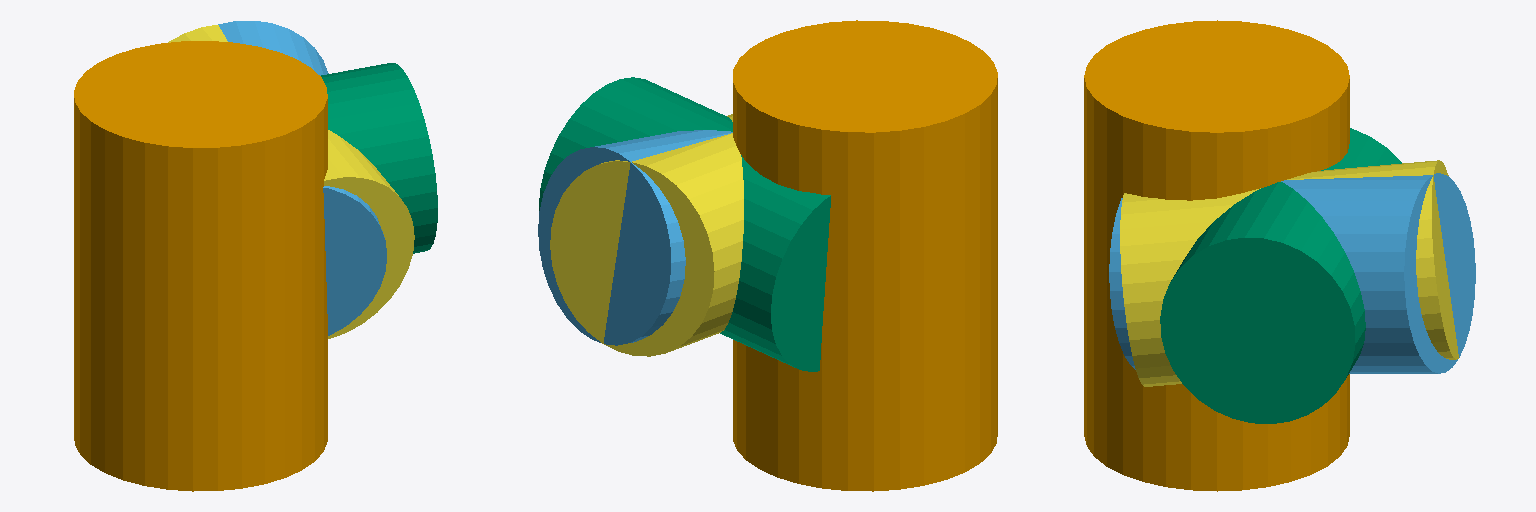
URDF robot description (pepe):
<?xml version="1.0"?><robot name="pepe">
	<link name="0">
		<visual>
			<geometry>
				<cylinder length="2.9780468539074367" radius="0.9999"/>
			</geometry>
		</visual>
		<collision>
			<geometry>
				<cylinder length="2.9780468539074367" radius="0.9999"/>
			</geometry>
		</collision>
		<inertial>
			<mass value="9.353939049816244"/>
			<inertia ixx="0.03" iyy="0.03" izz="0.03" ixy="0" ixz="0" iyx="0"/>
		</inertial>
	</link>
	<link name="11">
		<visual>
			<geometry>
				<cylinder length="2.3768619976775973" radius="0.7544873630837762"/>
			</geometry>
		</visual>
		<collision>
			<geometry>
				<cylinder length="2.3768619976775973" radius="0.7544873630837762"/>
			</geometry>
		</collision>
		<inertial>
			<mass value="4.250673818522219"/>
			<inertia ixx="0.03" iyy="0.03" izz="0.03" ixy="0" ixz="0" iyx="0"/>
		</inertial>
	</link>
	<link name="12">
		<visual>
			<geometry>
				<cylinder length="2.3768619976775973" radius="0.7544873630837762"/>
			</geometry>
		</visual>
		<collision>
			<geometry>
				<cylinder length="2.3768619976775973" radius="0.7544873630837762"/>
			</geometry>
		</collision>
		<inertial>
			<mass value="4.250673818522219"/>
			<inertia ixx="0.03" iyy="0.03" izz="0.03" ixy="0" ixz="0" iyx="0"/>
		</inertial>
	</link>
	<link name="13">
		<visual>
			<geometry>
				<cylinder length="2.3768619976775973" radius="0.7544873630837762"/>
			</geometry>
		</visual>
		<collision>
			<geometry>
				<cylinder length="2.3768619976775973" radius="0.7544873630837762"/>
			</geometry>
		</collision>
		<inertial>
			<mass value="4.250673818522219"/>
			<inertia ixx="0.03" iyy="0.03" izz="0.03" ixy="0" ixz="0" iyx="0"/>
		</inertial>
	</link>
	<joint name="11_to_0" type="revolute">
		<parent link="0"/>
		<child link="11"/>
		<axis xyz="0 0 1"/>
		<limit effort="1" upper="-3.1415" lower="3.1415" velocity="1"/>
		<origin rpy="3.3797362754343734 4.868516813710057 4.137952610057781" xyz="0.9086398339150384 0.567783715922862 0.27685329082958476"/>
	</joint>
	<joint name="12_to_0" type="revolute">
		<parent link="0"/>
		<child link="12"/>
		<axis xyz="0 0 1"/>
		<limit effort="1" upper="-3.1415" lower="3.1415" velocity="1"/>
		<origin rpy="5.06960441315156 4.868516813710057 4.137952610057781" xyz="0.9086398339150384 0.567783715922862 0.27685329082958476"/>
	</joint>
	<joint name="13_to_0" type="revolute">
		<parent link="0"/>
		<child link="13"/>
		<axis xyz="0 0 1"/>
		<limit effort="1" upper="-3.1415" lower="3.1415" velocity="1"/>
		<origin rpy="6.759472550868747 4.868516813710057 4.137952610057781" xyz="0.9086398339150384 0.567783715922862 0.27685329082958476"/>
	</joint>
</robot>

--- Facts derived from the render (not from the file) ---
3 views of the same robot in one strip: view 1: azimuth 30°, elevation 25°; view 2: azimuth 150°, elevation 25°; view 3: azimuth 270°, elevation 25° (orthographic).
Model pepe with 4 links and 3 joints (3 revolute), rooted at 0, posed every joint at zero.
Visible links, largest first — view 1: 0, 12, 11, 13; view 2: 0, 13, 12, 11; view 3: 0, 12, 11, 13.
Boxes of the visible links, x1,y1,x2,y2 form: 0: (74, 41, 327, 491); 12: (321, 63, 437, 253); 11: (218, 21, 386, 335); 13: (168, 25, 414, 338); 0: (733, 20, 997, 491); 13: (550, 114, 743, 356); 12: (539, 77, 830, 371); 11: (538, 130, 732, 345); 0: (1084, 20, 1349, 491); 12: (1160, 128, 1401, 423); 11: (1109, 173, 1475, 373); 13: (1120, 160, 1458, 386).
Size in the robot's own frame: 3.24 by 2.95 by 2.98 metres.
Geometry: primitives only (box / cylinder / sphere), no mesh files.
